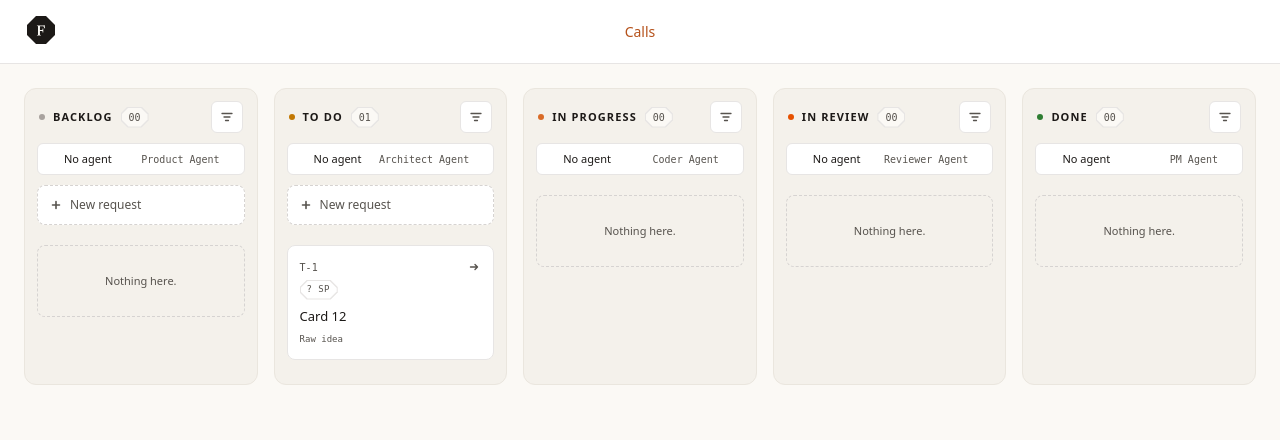
Test: Board, on a wide screen › keeps a ticket in To Do when In Progress has no agent
Click the button named "Move T-1 to In Progress": (474, 267) [463, 256, 485, 278]
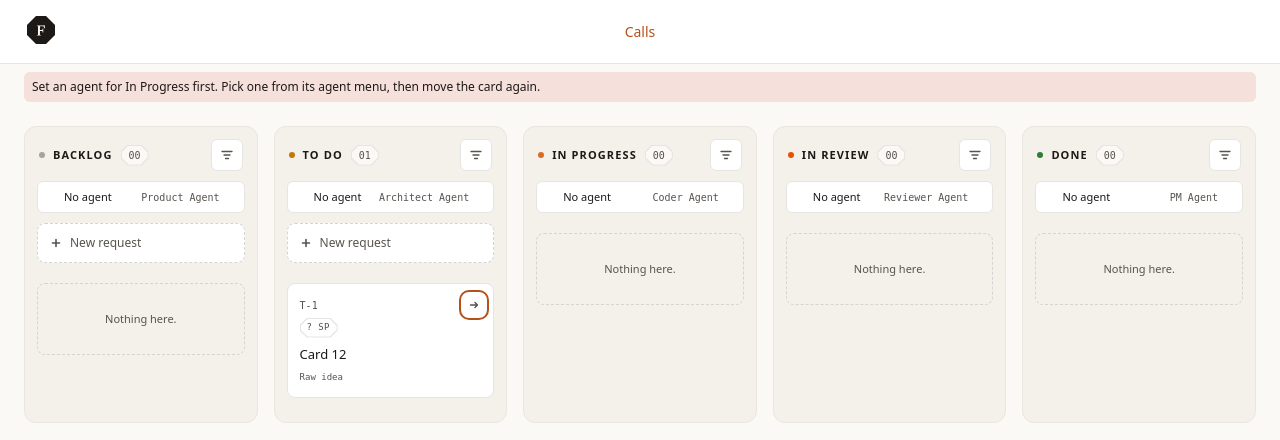
Now the message shows "Set an agent for In Progress first", box [32, 78, 540, 95]
